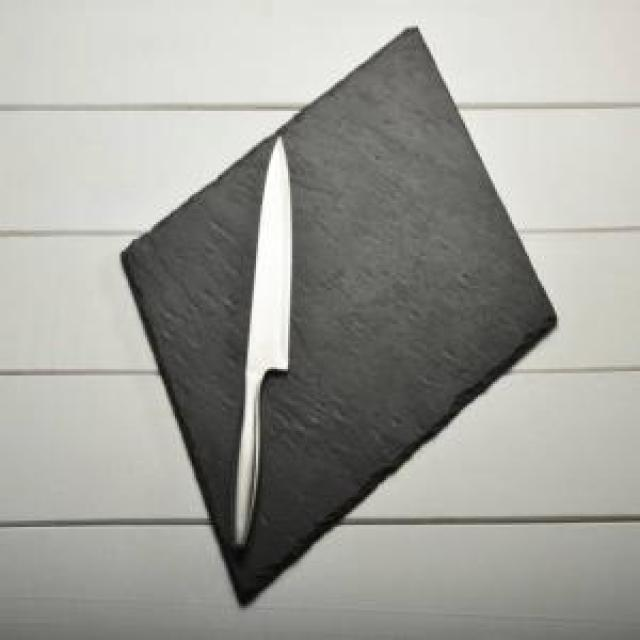knife: (232, 137, 296, 568)
